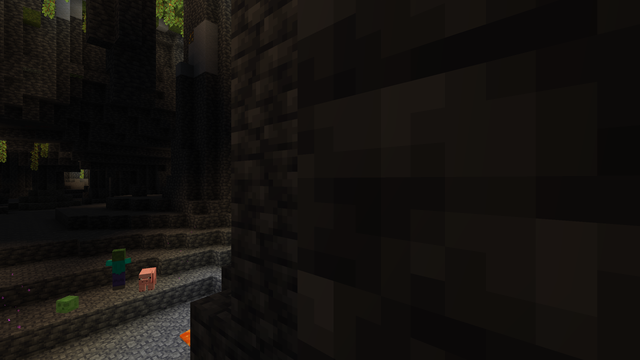cochons: (134, 266, 159, 292)
slimes: (58, 294, 76, 314)
zombies: (110, 248, 127, 291)
